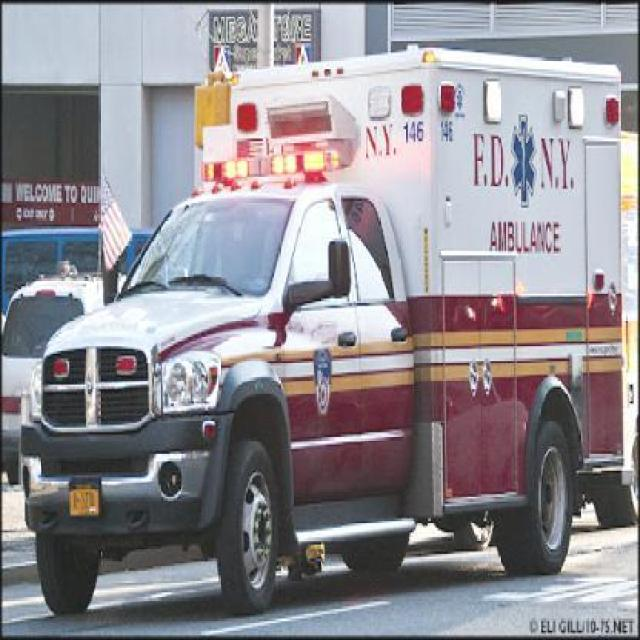Ambulance: (21, 40, 622, 602)
